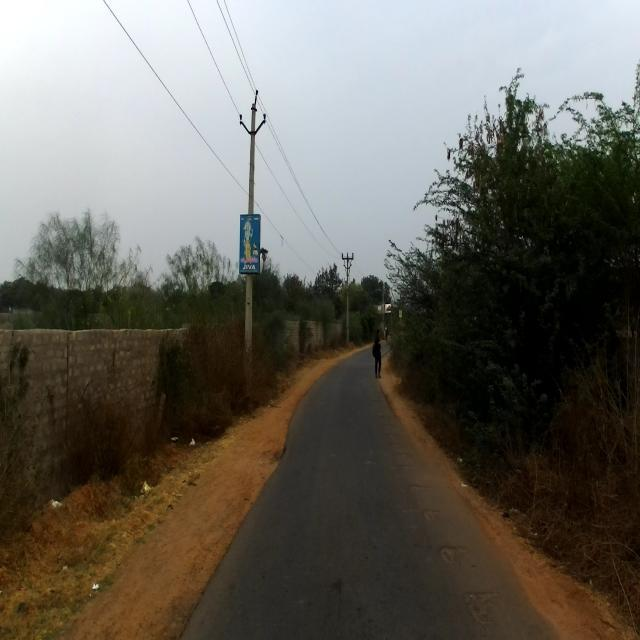Pothole: (323, 547, 371, 638), (465, 590, 518, 639), (439, 531, 472, 585)
